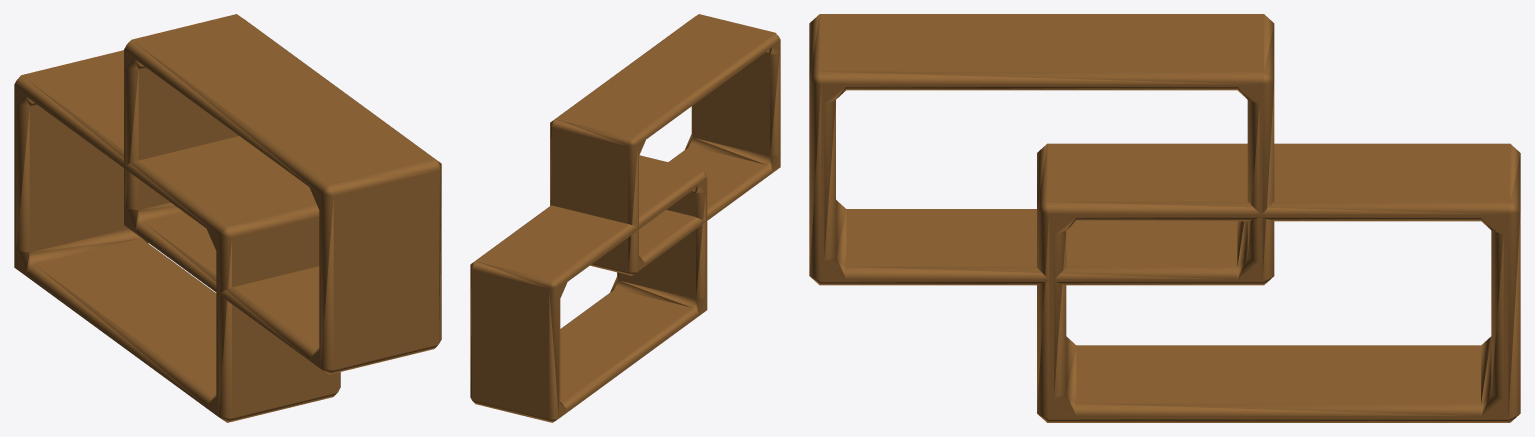
File: hiasanDinding.obj
The picture shows the model from 3 angles, left to right: view 1: azimuth 30°, elevation 25°; view 2: azimuth 150°, elevation 25°; view 3: azimuth 270°, elevation 25°; orthographic projection. The views are drawn at different scales.
Visible parts, largest first — view 1: Wallshelf_Cube.002; view 2: Wallshelf_Cube.002; view 3: Wallshelf_Cube.002.
Boxes of the visible parts, box(x1,y1,x2,y2) form: Wallshelf_Cube.002: box(14, 14, 441, 422); Wallshelf_Cube.002: box(470, 14, 780, 422); Wallshelf_Cube.002: box(809, 14, 1520, 422).
Bounding box in the file's own units: 0.4289 × 1.05 × 1.93.
